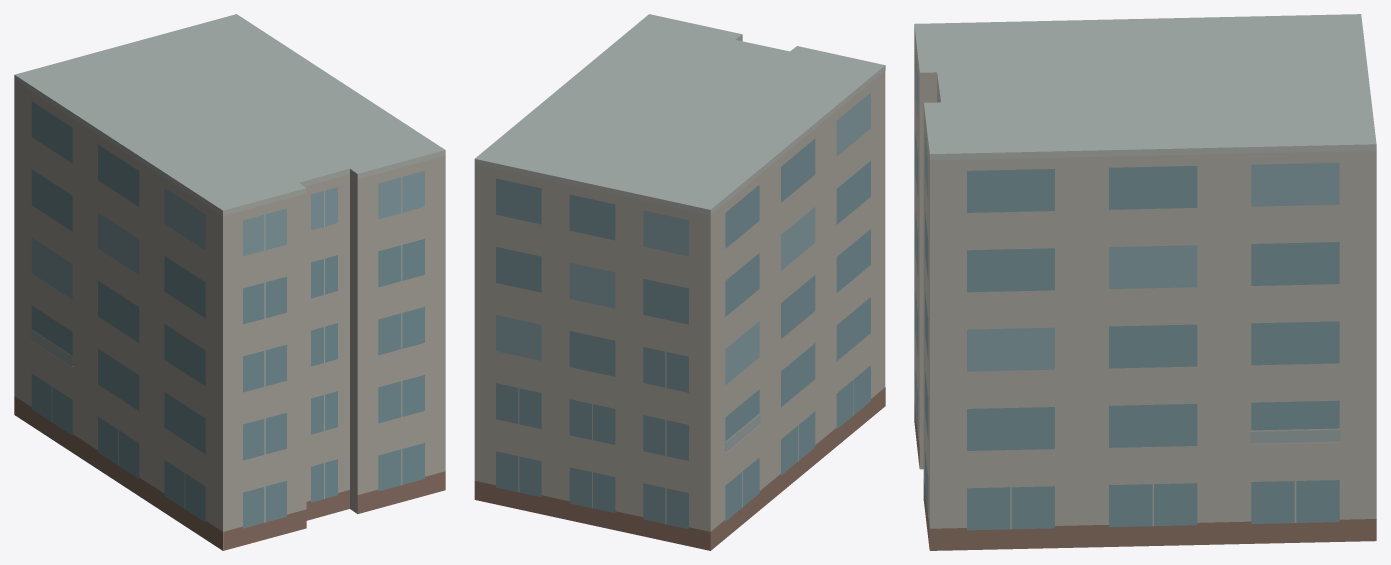
File: survey-upis-32957973.glb
3 views of the same model, side by side, from view 1: azimuth 30°, elevation 25°; view 2: azimuth 150°, elevation 25°; view 3: azimuth 270°, elevation 25° (orthographic). The views are drawn at different scales.
Parts seen in each view (by area): view 1: survey-upis-32957973.tmp; view 2: survey-upis-32957973.tmp; view 3: survey-upis-32957973.tmp.
Boxes of the visible parts, box(x1,y1,x2,y2) form: survey-upis-32957973.tmp: box(14, 14, 445, 550); survey-upis-32957973.tmp: box(474, 14, 885, 550); survey-upis-32957973.tmp: box(914, 14, 1376, 550).
Size of the model in its own units: 11.56 by 15.25 by 16.11.
